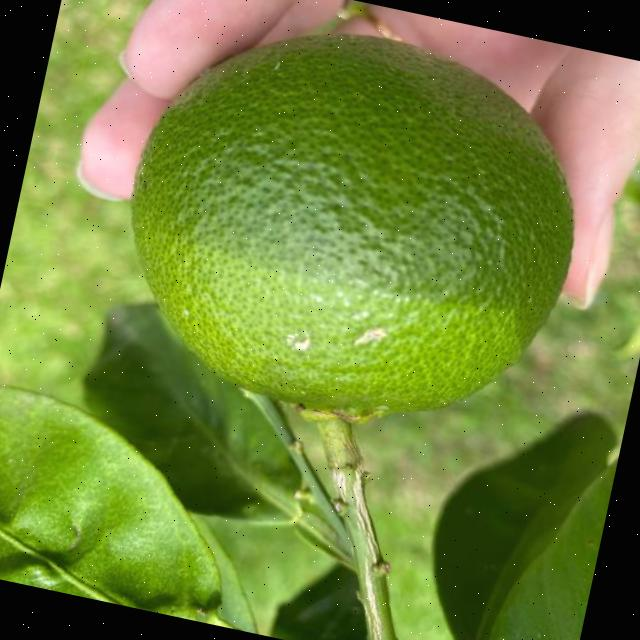Unripe: (95, 0, 608, 457)
